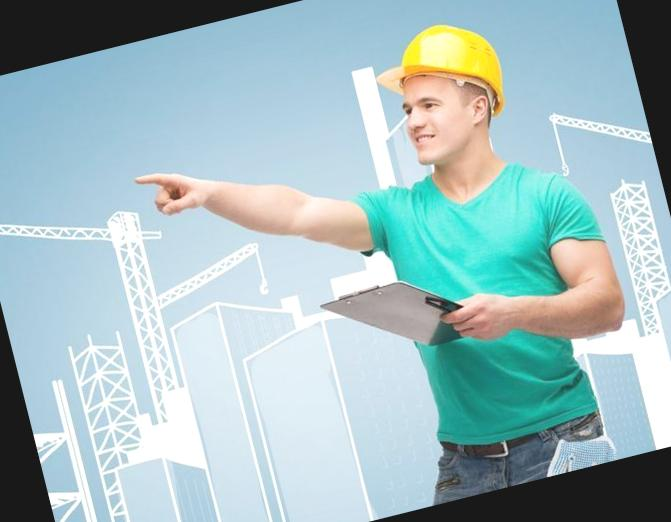helmet: (363, 13, 522, 127)
no_vest: (338, 138, 637, 456)
person: (298, 0, 657, 511)
